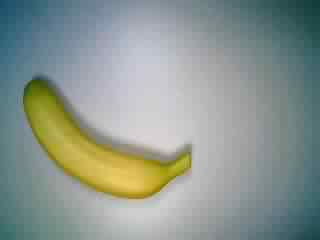banana: (19, 73, 194, 203)
